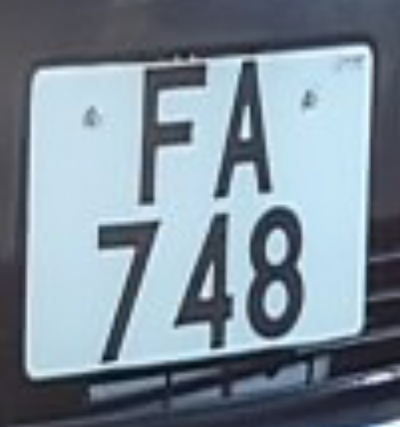4: (163, 203, 246, 351)
7: (82, 211, 174, 372)
8: (236, 194, 324, 351)
A: (209, 55, 284, 205)
F: (125, 54, 214, 214)
